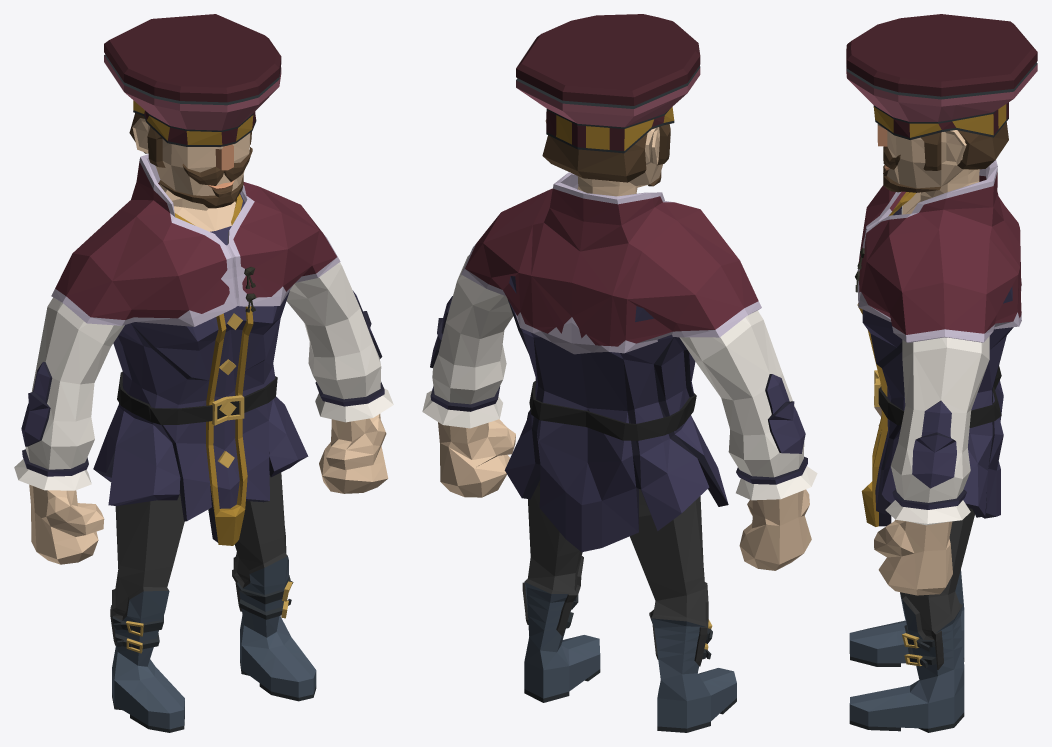
The model's file is 11_NPC_Seelie.fbx.
3 views of the same model, side by side, from view 1: azimuth 30°, elevation 25°; view 2: azimuth 150°, elevation 25°; view 3: azimuth 270°, elevation 25° (orthographic). The views are drawn at different scales.
Visible parts, largest first — view 1: B1_NPC_Seelie_01tri:Seelie; view 2: B1_NPC_Seelie_01tri:Seelie; view 3: B1_NPC_Seelie_01tri:Seelie.
Part boxes in pixels (x1,y1,x2,y2): B1_NPC_Seelie_01tri:Seelie: (14,14,393,732); B1_NPC_Seelie_01tri:Seelie: (422,14,817,732); B1_NPC_Seelie_01tri:Seelie: (846,14,1037,732).
Bounding box in the file's own units: 547 × 893 × 242.
